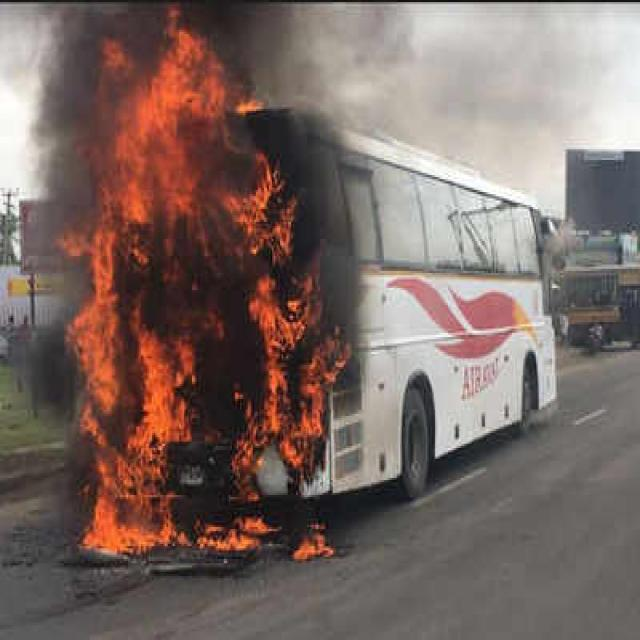accident: (35, 8, 554, 552)
